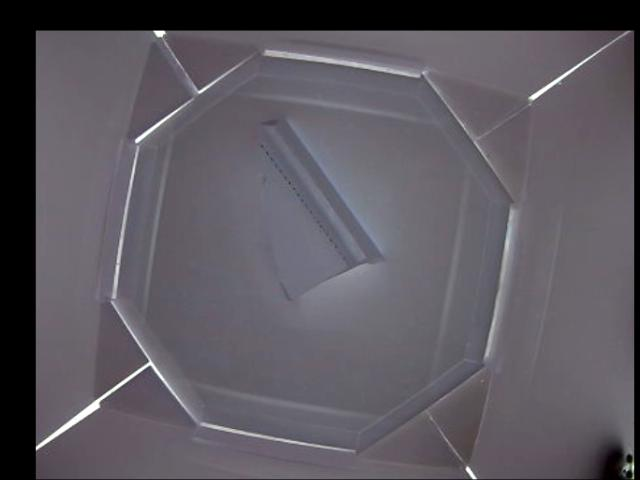China: (259, 118, 389, 299)
